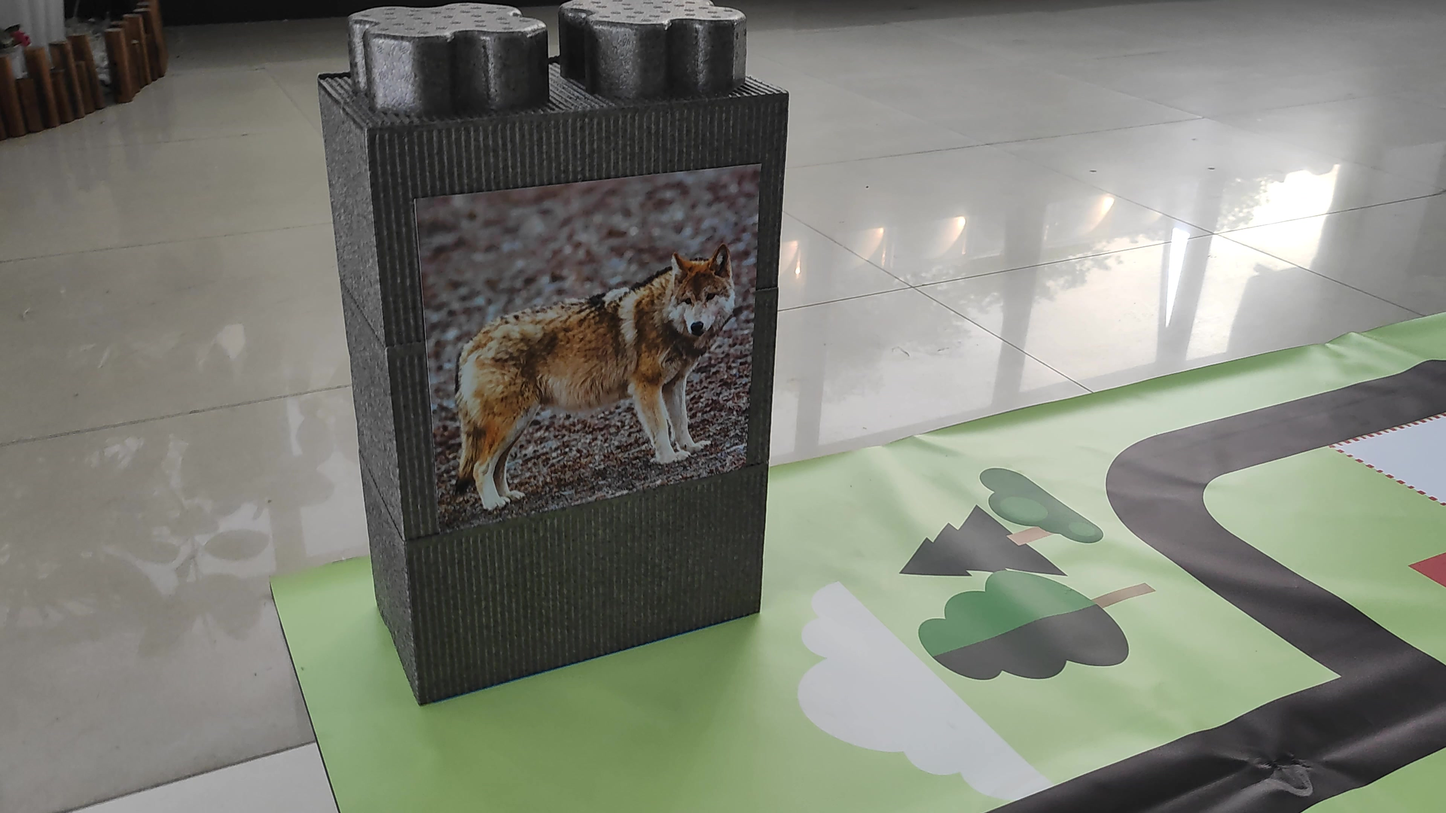wolf: (430, 204, 761, 465)
